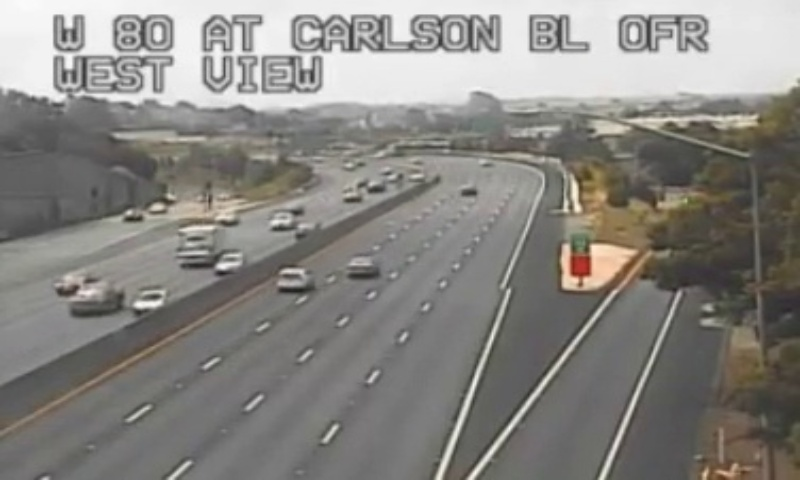car: (276, 267, 310, 292), (345, 256, 377, 277)
